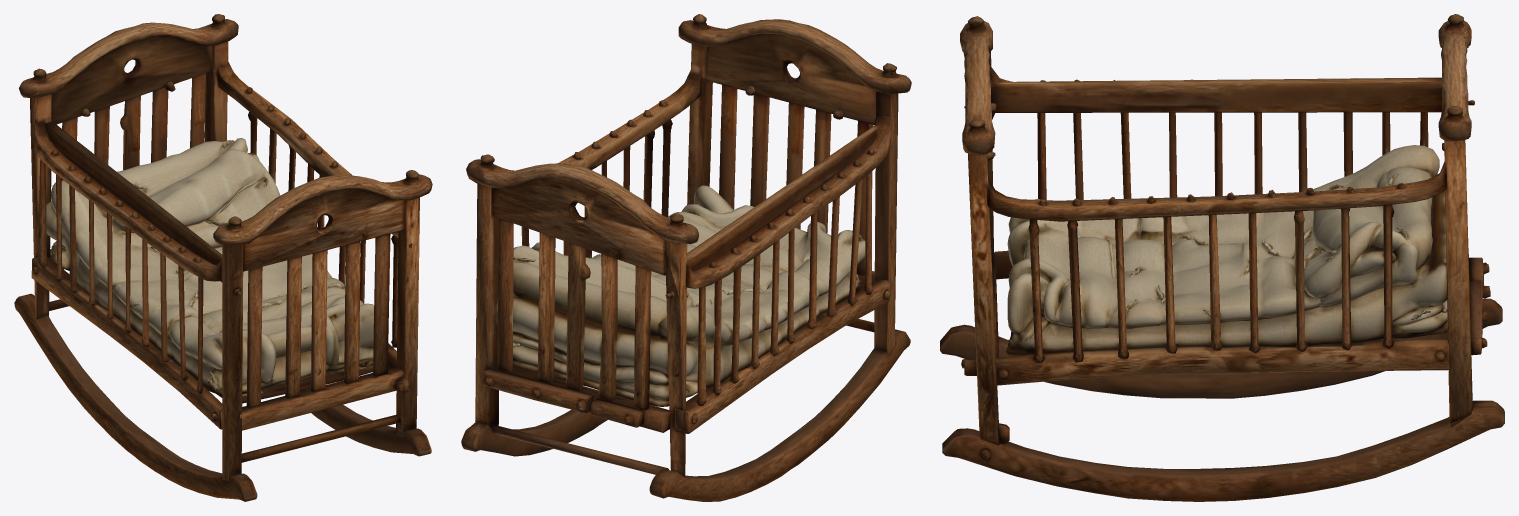
3 renders of one model, left to right at view 1: azimuth 30°, elevation 25°; view 2: azimuth 150°, elevation 25°; view 3: azimuth 270°, elevation 25°, orthographic. The views are drawn at different scales.
Parts seen in each view (by area): view 1: tripo_node_24fa8a4e-e5c3-4eb4-a3a9-042966f50686; view 2: tripo_node_24fa8a4e-e5c3-4eb4-a3a9-042966f50686; view 3: tripo_node_24fa8a4e-e5c3-4eb4-a3a9-042966f50686.
Boxes of the visible parts, x1=… form: tripo_node_24fa8a4e-e5c3-4eb4-a3a9-042966f50686: x1=14, y1=14, x2=432, y2=501; tripo_node_24fa8a4e-e5c3-4eb4-a3a9-042966f50686: x1=461, y1=14, x2=911, y2=501; tripo_node_24fa8a4e-e5c3-4eb4-a3a9-042966f50686: x1=940, y1=14, x2=1504, y2=501.
Size of the model in its own units: 0.5449 by 0.7871 by 0.998.
Materials: 1 (1 with a texture image).
